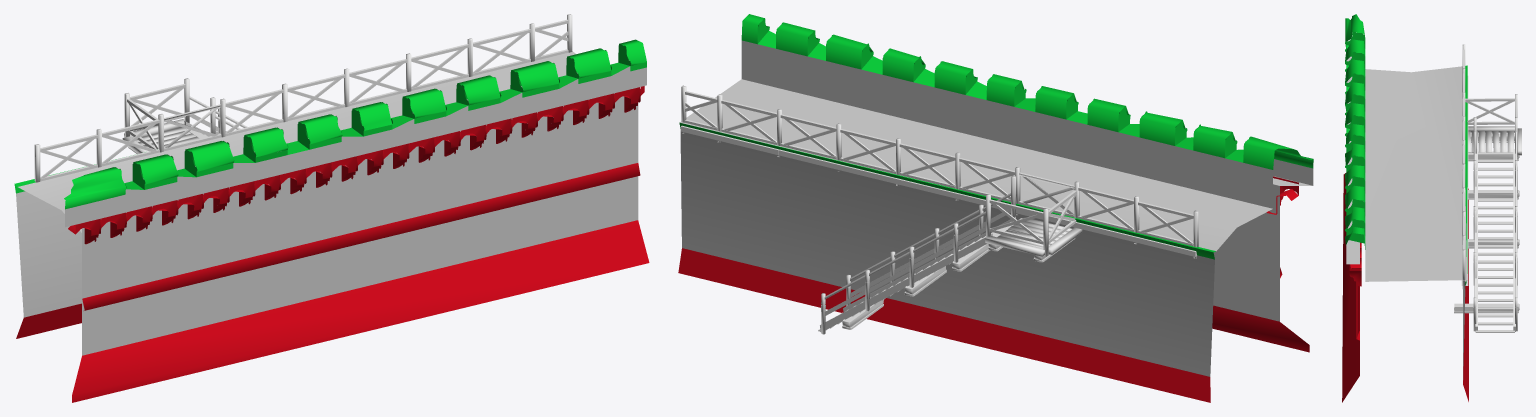
The model's file is Wall_4 (2).fbx.
3 renders of one model, left to right at view 1: azimuth 30°, elevation 25°; view 2: azimuth 150°, elevation 25°; view 3: azimuth 270°, elevation 25°, orthographic. The views are drawn at different scales.
Parts seen in each view (by area): view 1: Group_4.015, Group_3.012, Group_3.013, Group_3.011; view 2: Group_4.015, Group_3.012, Group_3.013, Group_3.011; view 3: Group_4.015, Group_3.013, Group_3.012.
Boxes of the visible parts, box(x1,y1,x2,y2) form: Group_4.015: box(14, 39, 649, 402); Group_3.012: box(34, 14, 572, 182); Group_3.013: box(122, 78, 247, 153); Group_3.011: box(164, 104, 221, 151); Group_4.015: box(678, 14, 1313, 402); Group_3.012: box(680, 85, 1198, 258); Group_3.013: box(818, 175, 1082, 334); Group_3.011: box(1017, 172, 1076, 227); Group_4.015: box(1342, 14, 1468, 402); Group_3.013: box(1454, 94, 1521, 332); Group_3.012: box(1461, 44, 1468, 289).
Size of the model in its own units: 1948 by 690 by 660.
